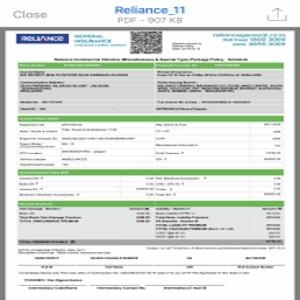image: (15, 31, 71, 45)
table: (16, 60, 286, 114), (18, 116, 284, 169), (17, 201, 283, 247), (18, 169, 286, 199)
text: (211, 29, 289, 46)
